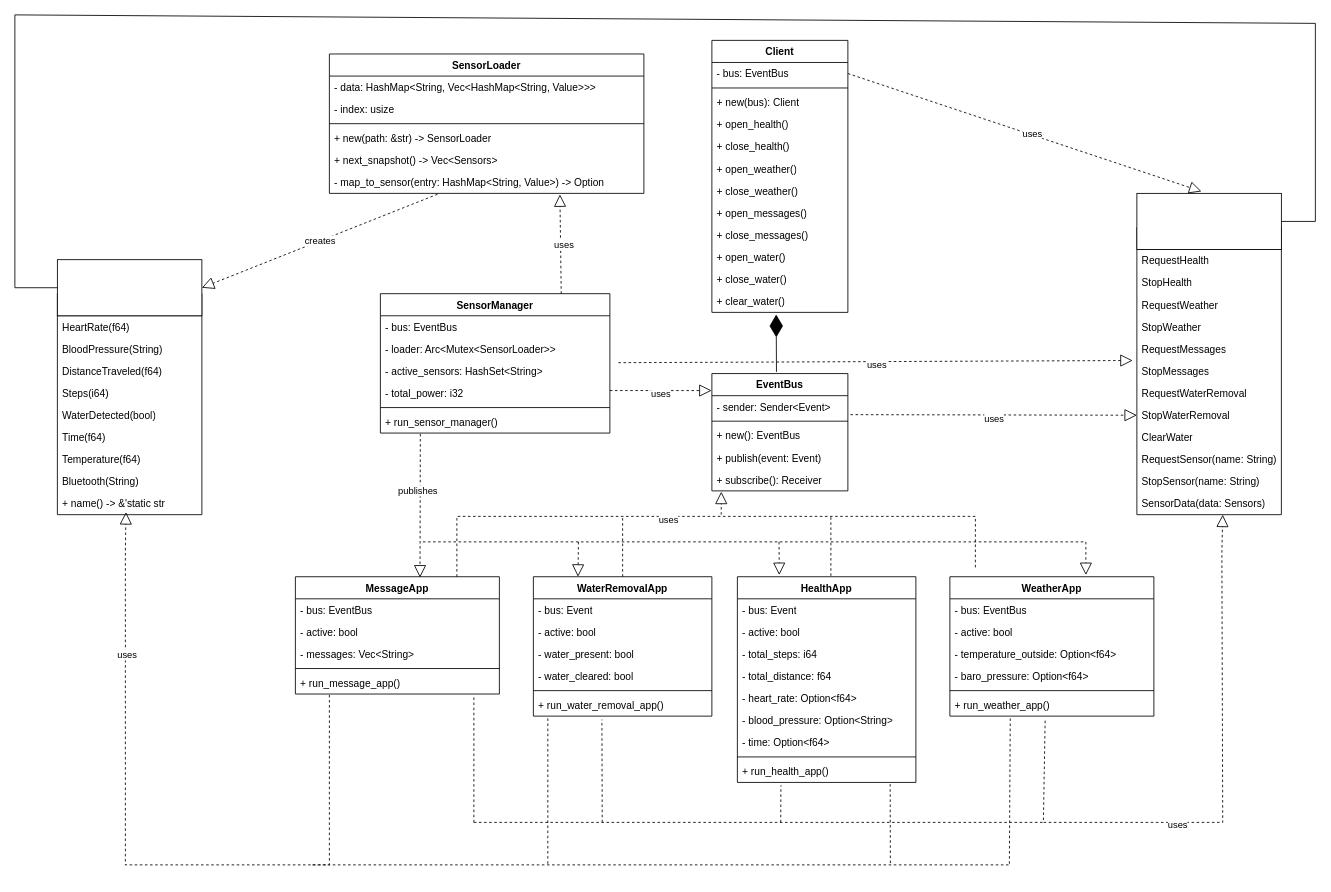
Some shapes in this 1331 by 892 pixel diagram are drawn without their labels. Here are the shapes that lost their labels. From the top down, the centre of each, then its label:
the point at 1208,221: «enumeration» Event
the point at 129,287: «enumeration» Sensors
